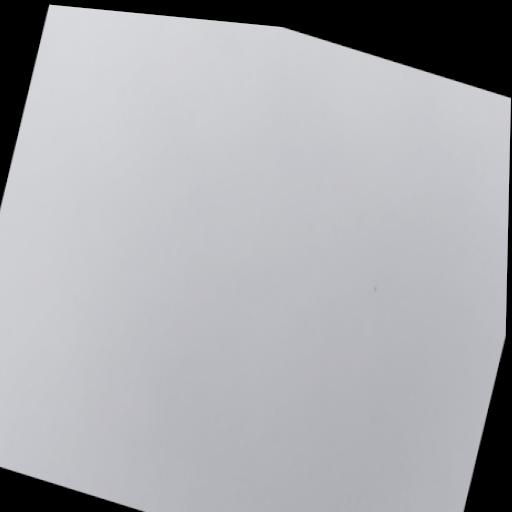drones: (371, 284, 378, 294)
